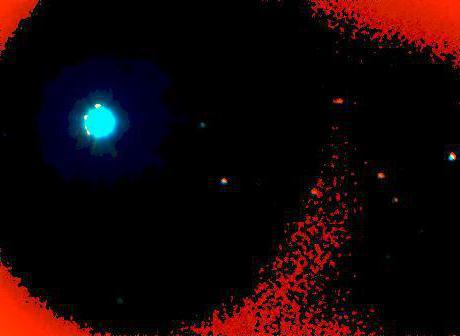star: (83, 89, 113, 119)
